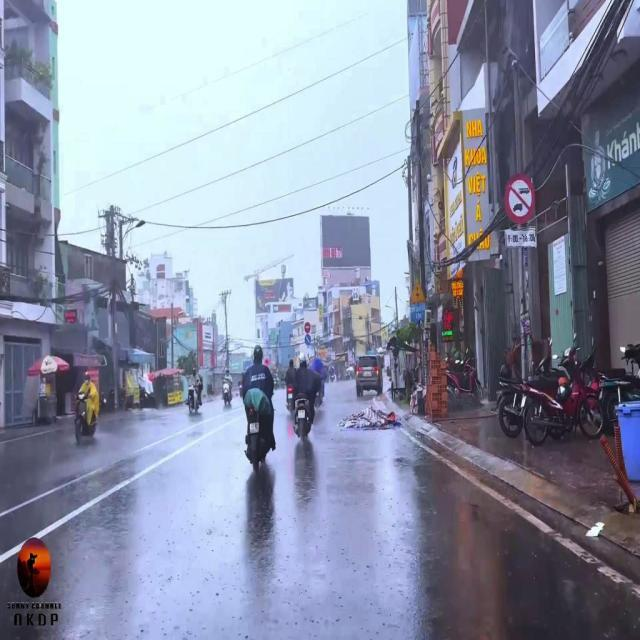102-cam-di-nguoc-chieu: (303, 322, 311, 332)
107-cam-oto-khach-va-oto-tai: (502, 172, 534, 225)
302a-huong-phai-di-vong-chuong-ngai-vat-1: (304, 334, 312, 346)
